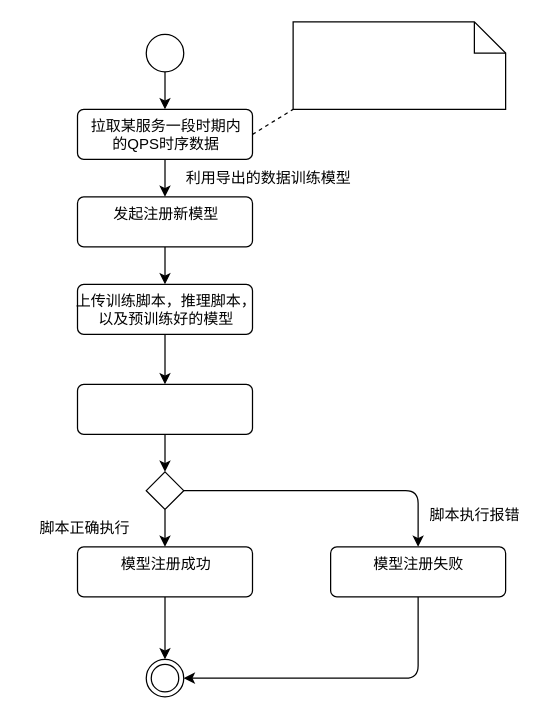
The diagram is 559 pixels wide and 719 high, and some of its shapes have lost their labels. Each missing label, with the centre of its shape:
"算法工程师可利用导出的数据 对于特定的服务建立合适的模型" goes at point 399,65.
"系统本地尝试运行训练 脚本和测试脚本" goes at point 164,408.
